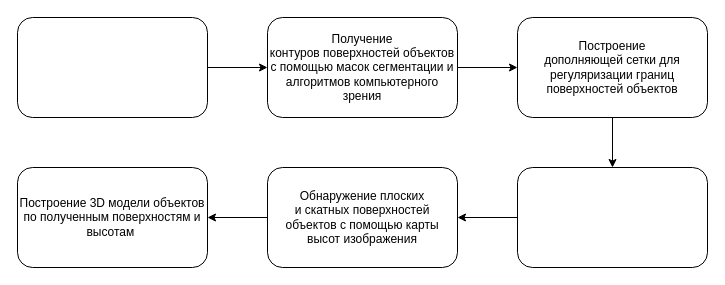
The diagram is 725 pixels wide and 285 high, and some of its shapes have lost their labels. The shapes that lost their labels are listed below. From the top down, each one's box as (x1, y1, x2, y2) in pixels, then its label:
(16, 16, 208, 118): Получение масок сегментации и карты высот изображения
(516, 166, 708, 268): Заполнение сетки по полигонам поверхностей объектов
